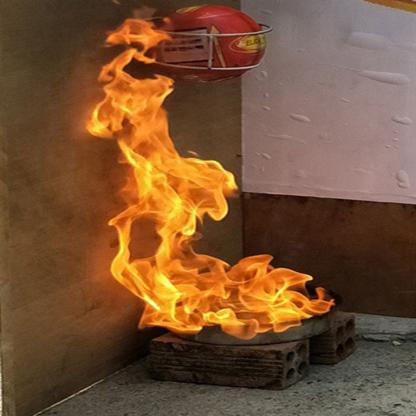fire: (79, 14, 342, 338)
